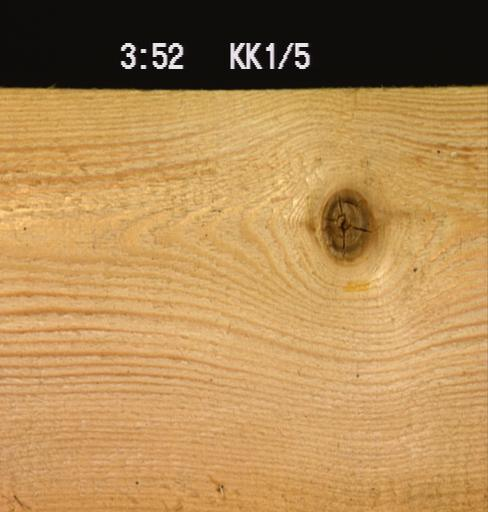sound_knot: (317, 186, 374, 264)
